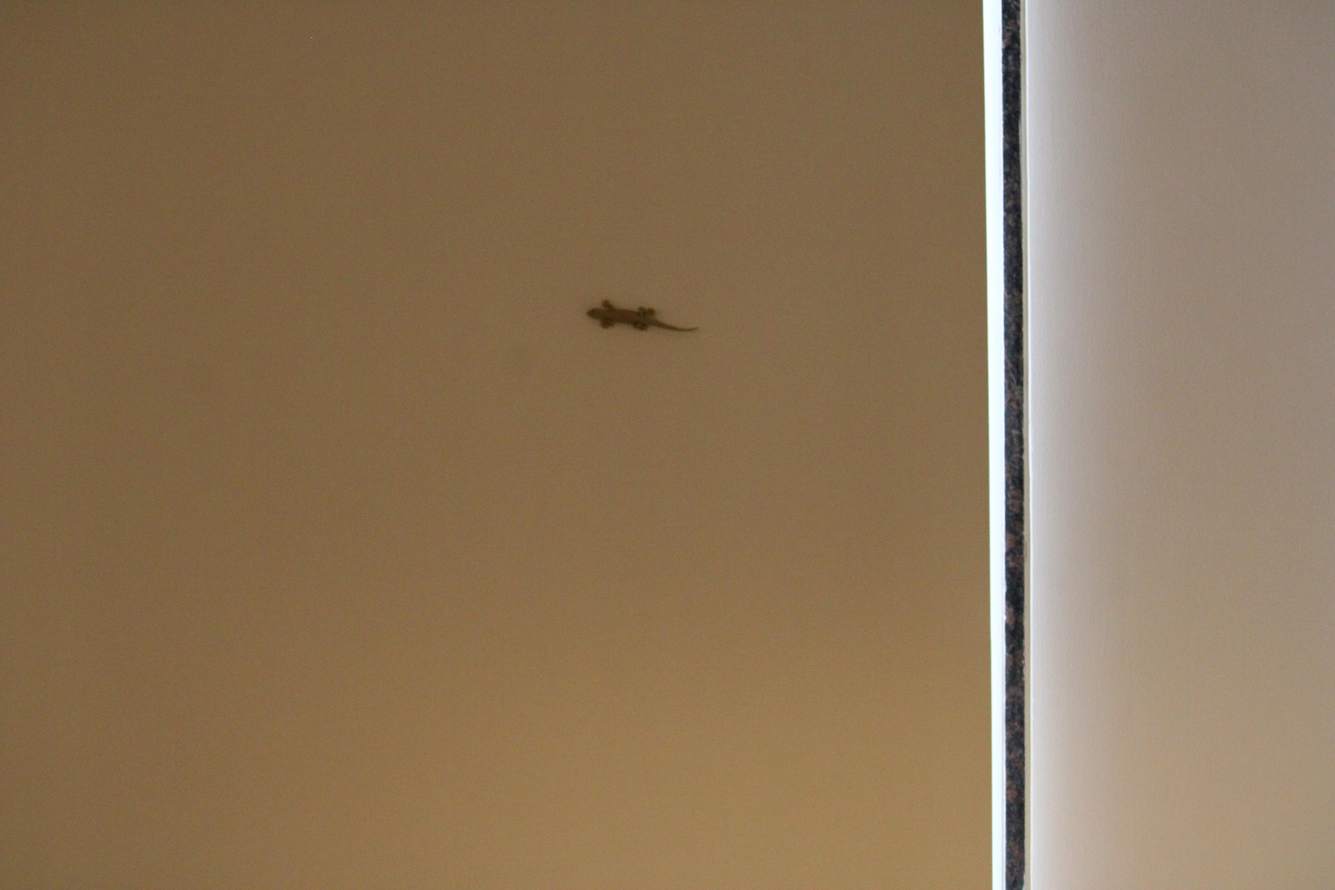lizard: (579, 285, 701, 351)
